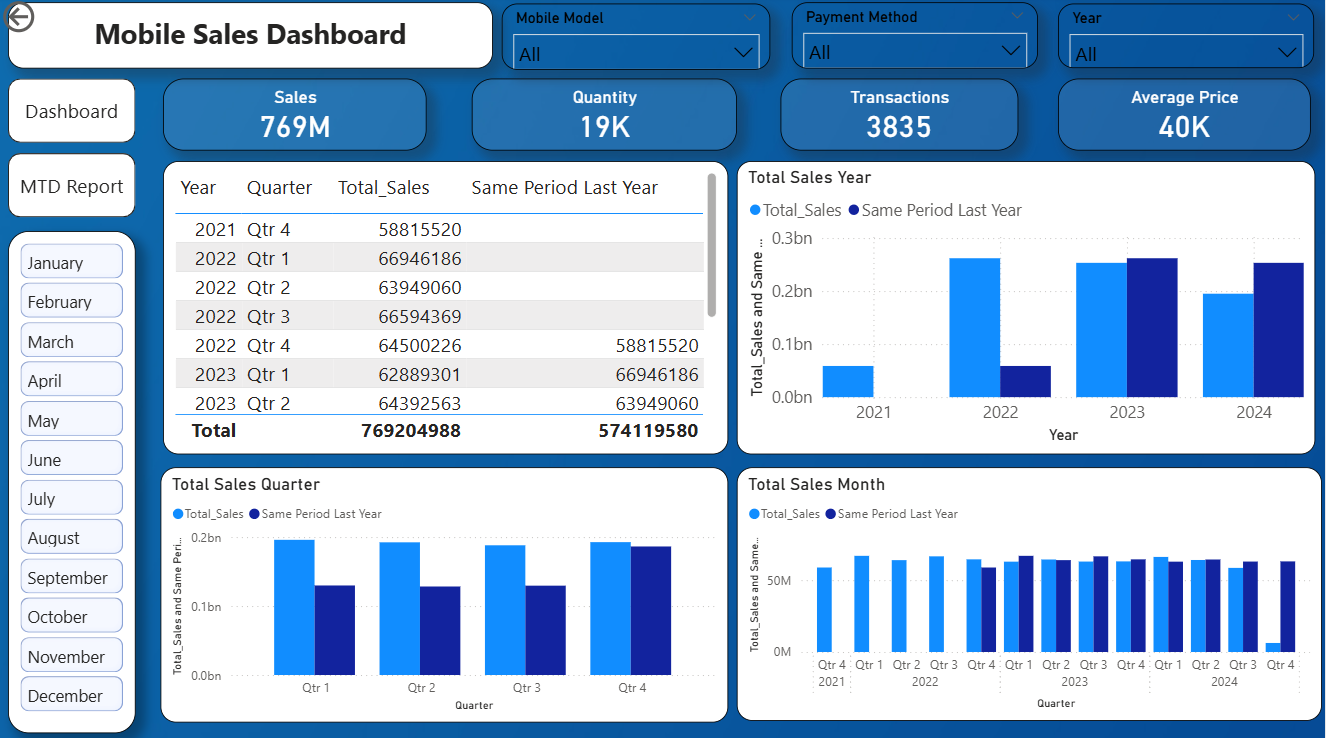

This screenshot's page, from the dashboard's own definition file:
{"tool":"powerbi","page":{"name":"Same Period Last Year","canvas":[1280,720],"ordinal":2},"visuals":[{"type":"card","title":" Sales","fields":{"Values":["Sales_Data.Total_Sales"]},"box":[159.3,79.6,254.6,70],"z":0},{"type":"card","title":"Quantity","fields":{"Values":["Sales_Data.Total_Quantity"]},"box":[457.2,79.6,255.8,70],"z":1000},{"type":"card","title":"Transactions","fields":{"Values":["Sales_Data.Transactions"]},"box":[755.2,79.6,229.2,70],"z":2000},{"type":"card","title":"Average Price","fields":{"Values":["Sales_Data.Average_Price"]},"box":[1023.1,79.6,243.7,70],"z":3000},{"type":"slicer","fields":{"Values":["Sales_Data.Mobile Model"]},"box":[486.2,7.2,259.4,63.9],"z":4000},{"type":"slicer","fields":{"Values":["Sales_Data.Payment Method"]},"box":[766.1,6,237.7,63.9],"z":5000},{"type":"slicer","fields":{"Values":["Custom_Data.Date.Variation.Date Hierarchy.Year"]},"box":[1023.1,7.2,247.3,62.7],"z":6000},{"type":"textbox","box":[9.7,6,468.1,63.9],"z":7000},{"type":"actionButton","box":[0,0,100,40],"z":8000},{"type":"advancedSlicerVisual","fields":{"Values":["Custom_Data.Date.Variation.Date Hierarchy.Month"]},"box":[9.7,226.8,123.1,485],"z":9000},{"type":"tableEx","fields":{"Values":["Custom_Data.Date.Variation.Date Hierarchy.Year","Custom_Data.Date.Variation.Date Hierarchy.Quarter","Sales_Data.Total_Sales","Sales_Data.Same Period Last Year"]},"box":[159.3,159.3,545.3,283.5],"z":10000},{"type":"clusteredColumnChart","title":"Total Sales Year","fields":{"Category":["Custom_Data.Date.Variation.Date Hierarchy.Year","Custom_Data.Date.Variation.Date Hierarchy.Quarter"],"Y":["Sales_Data.Total_Sales","Sales_Data.Same Period Last Year"]},"box":[713,159.3,558.6,283.5],"z":11000},{"type":"clusteredColumnChart","title":"Total Sales Quarter","fields":{"Category":["Custom_Data.Date.Variation.Date Hierarchy.Year","Custom_Data.Date.Variation.Date Hierarchy.Quarter"],"Y":["Sales_Data.Total_Sales","Sales_Data.Same Period Last Year"]},"box":[156.8,454.8,547.7,246.1],"z":12000},{"type":"clusteredColumnChart","title":"Total Sales Month","fields":{"Category":["Custom_Data.Date.Variation.Date Hierarchy.Year","Custom_Data.Date.Variation.Date Hierarchy.Quarter"],"Y":["Sales_Data.Total_Sales","Sales_Data.Same Period Last Year"]},"box":[713,454.8,564.6,244.9],"z":13000},{"type":"pageNavigator","box":[9.7,79.6,123.1,135.1],"z":14000}]}

Visuals, with their boxes in screenshot pixels (x1, y1, x2, y2), scaled from the page's 1280x720 canvas onto the 1326x738 screenshot:
" Sales" card: rect(165, 82, 429, 153)
"Quantity" card: rect(474, 82, 739, 153)
"Transactions" card: rect(782, 82, 1020, 153)
"Average Price" card: rect(1060, 82, 1312, 153)
slicer - Sales_Data.Mobile Model: rect(504, 7, 772, 73)
slicer - Sales_Data.Payment Method: rect(794, 6, 1040, 72)
slicer - Custom_Data.Date.Variation.Date Hierarchy.Year: rect(1060, 7, 1316, 72)
textbox: rect(10, 6, 495, 72)
actionButton: rect(0, 0, 104, 41)
advancedSlicerVisual - Custom_Data.Date.Variation.Date Hierarchy.Month: rect(10, 232, 138, 730)
tableEx - Custom_Data.Date.Variation.Date Hierarchy.Year x Custom_Data.Date.Variation.Date Hierarchy.Quarter: rect(165, 163, 730, 454)
"Total Sales Year" clusteredColumnChart: rect(739, 163, 1317, 454)
"Total Sales Quarter" clusteredColumnChart: rect(162, 466, 730, 718)
"Total Sales Month" clusteredColumnChart: rect(739, 466, 1324, 717)
pageNavigator: rect(10, 82, 138, 220)
